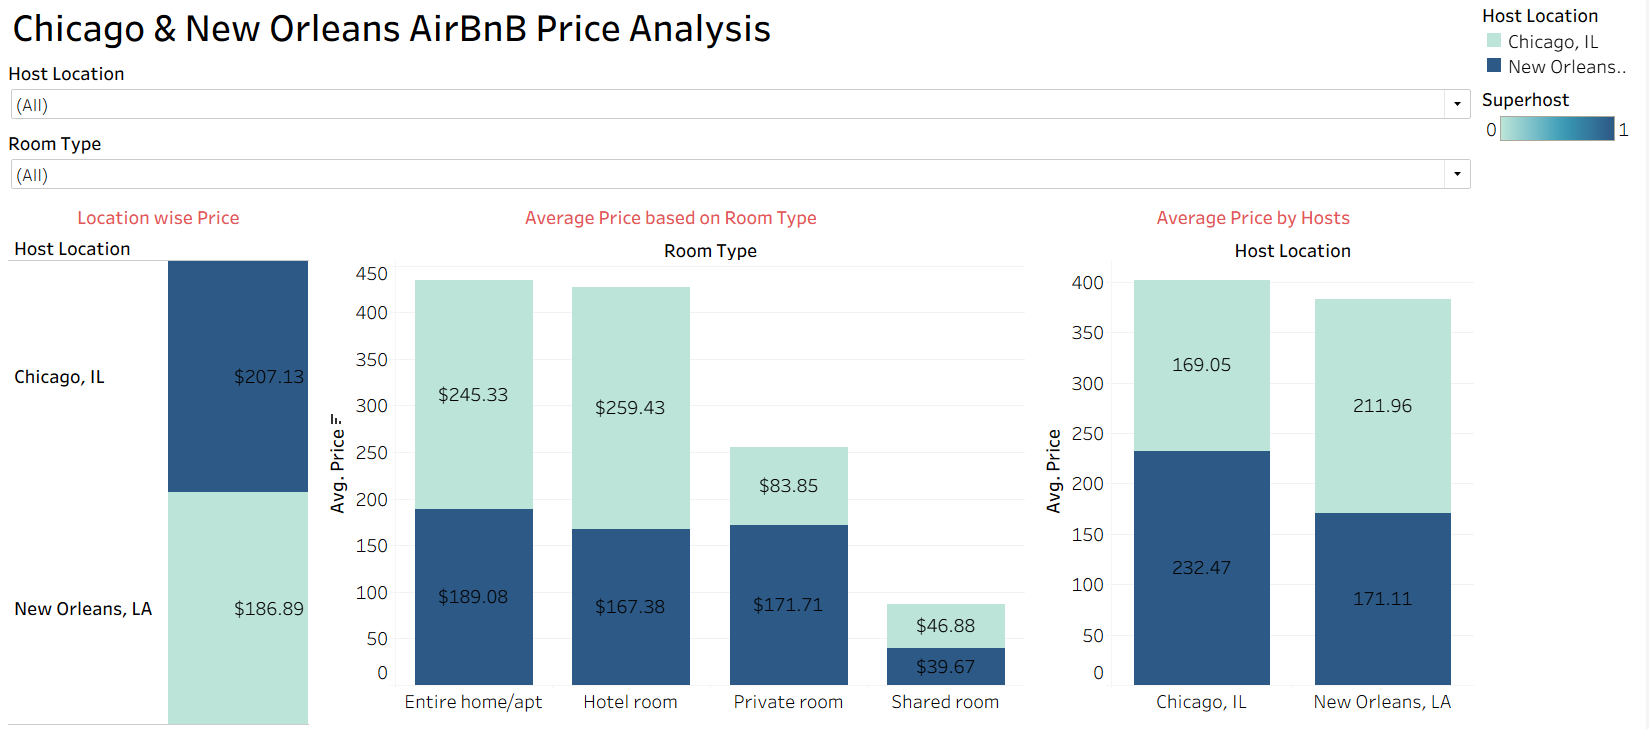

What the dashboard file says about the page in this screenshot:
{"tool":"tableau","page":{"name":"DB - Price Analysis","canvas":[1000,1000],"units":"permille","ordinal":2},"visuals":[{"type":"title","box":[4.9,11,893.2,79.5]},{"type":"legend","title":"Average Price based on Room Type","param":"[federated.1dk3tz613rppmf14h9z8i1sxdjd3].[none:host_location:nk]","box":[898.1,11,97.1,115.1]},{"type":"filter","title":"Location wise Price","param":"[federated.1dk3tz613rppmf14h9z8i1sxdjd3].[none:host_location:nk]","box":[4.9,90.4,893.2,95.9]},{"type":"legend","title":"Average Price by Hosts","param":"[federated.1dk3tz613rppmf14h9z8i1sxdjd3].[none:Superhost:qk]","box":[898.1,126,97.1,111]},{"type":"filter","title":"Average Price based on Room Type","param":"[federated.1dk3tz613rppmf14h9z8i1sxdjd3].[none:room_type:nk]","box":[4.9,186.3,893.2,95.9]},{"type":"worksheet","title":"Location wise Price","mark":"Square","rows":["host_location"],"box":[4.9,282.2,187.5,706.9]},{"type":"worksheet","title":"Average Price based on Room Type","mark":"Bar","rows":["price"],"cols":["room_type"],"box":[192.3,282.2,433.9,706.9]},{"type":"worksheet","title":"Average Price by Hosts","mark":"Automatic","rows":["price"],"cols":["host_location"],"box":[626.2,282.2,271.9,706.9]}]}

Visuals, with their boxes on the dashboard's canvas, which has no fixed pixel size, in thousandths of its width and height (x1, y1, x2, y2). These are canvas units, not pixel positions in the 1649x729 screenshot, which may show the page scaled, cropped or inside an application window:
title: 5 11 898 90
"Average Price based on Room Type" legend: 898 11 995 126
"Location wise Price" filter: 5 90 898 186
"Average Price by Hosts" legend: 898 126 995 237
"Average Price based on Room Type" filter: 5 186 898 282
"Location wise Price" worksheet (Square marks): 5 282 192 989
"Average Price based on Room Type" worksheet (Bar marks): 192 282 626 989
"Average Price by Hosts" worksheet: 626 282 898 989
